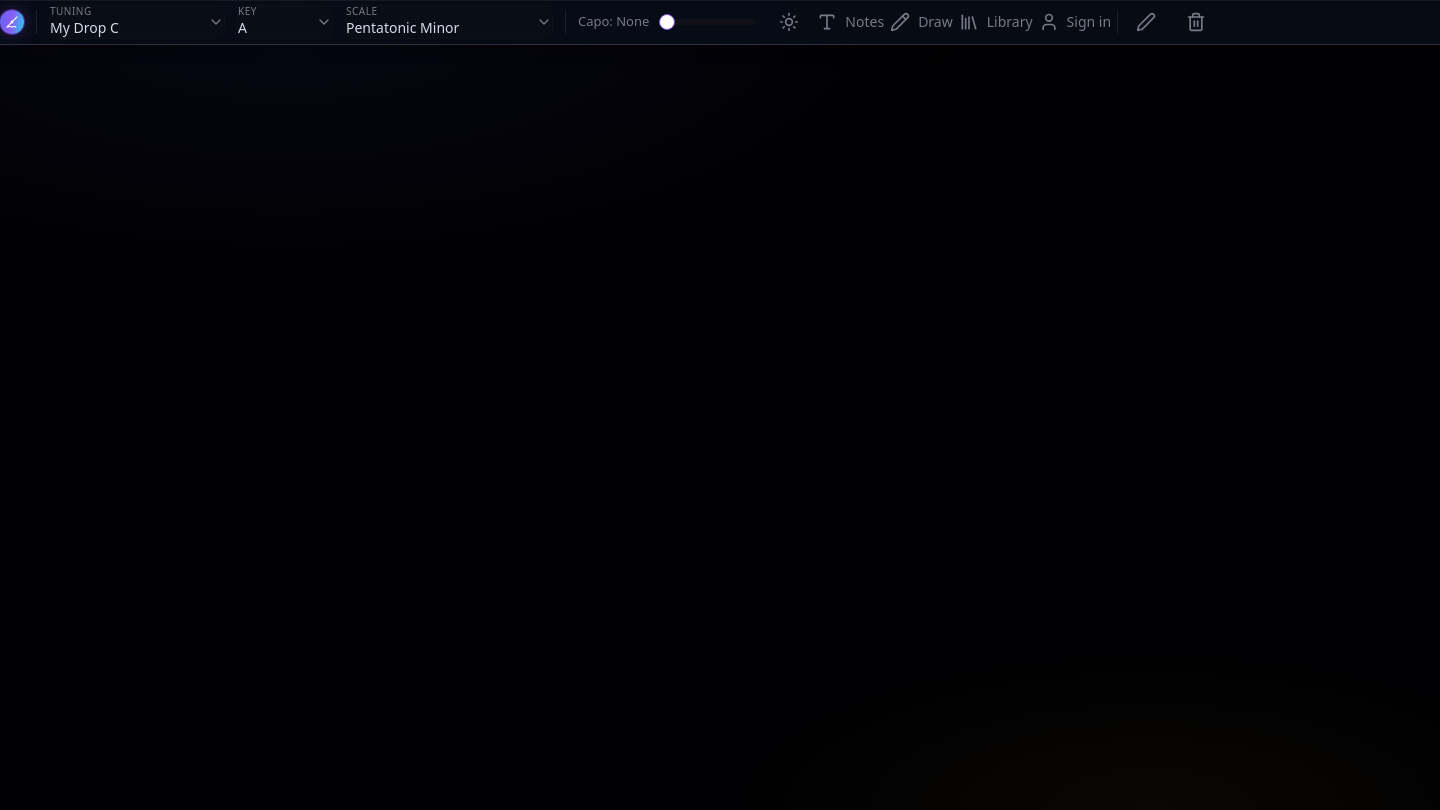
it: ControlBar — rename/delete actions (Task 9) › delete: confirmation sheet names the tuning and warns when it is in use
What coordinates should you click on to do the following:
click the button named "Delete tuning"
I would click on:
 (1196, 22)
Its box is [1174,0,1218,44].
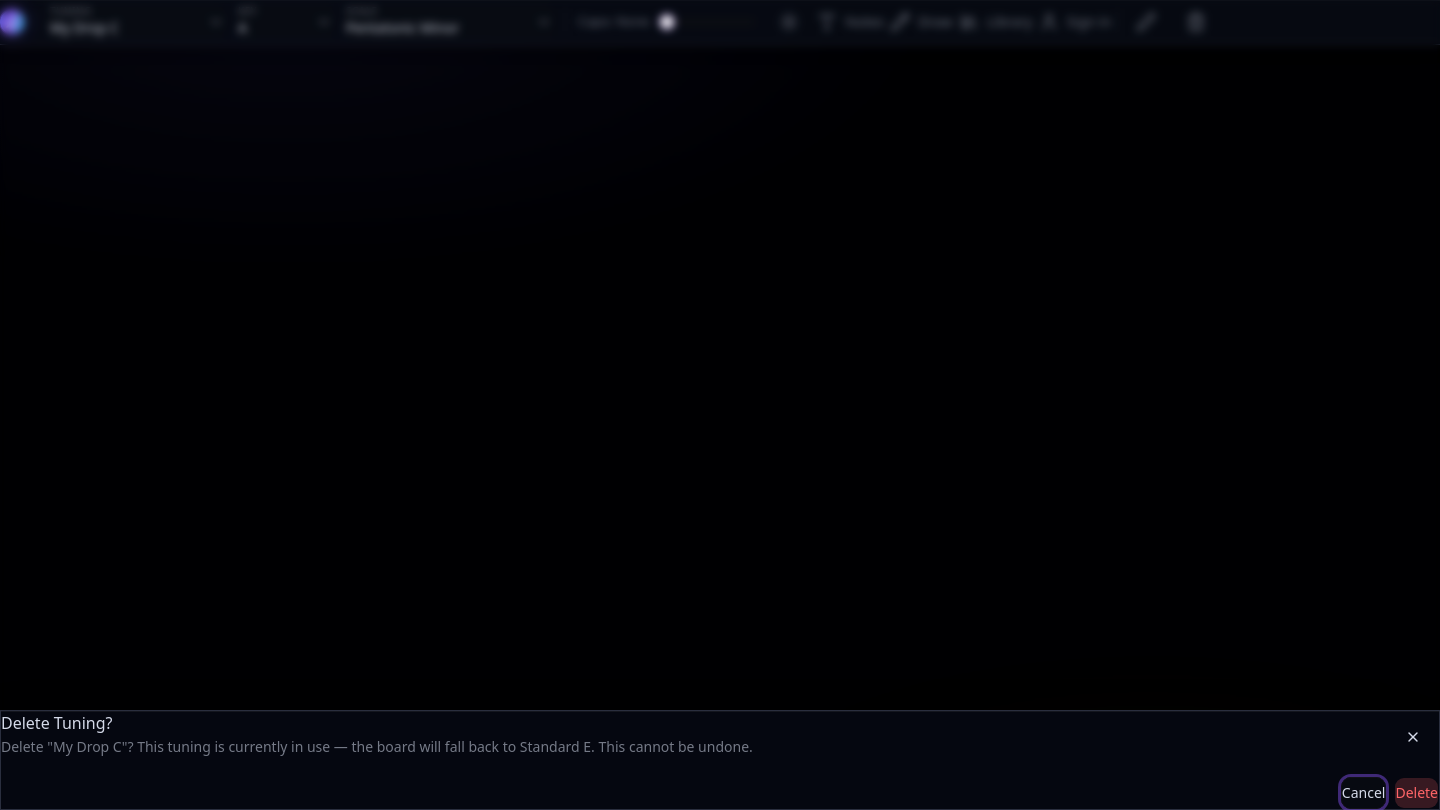
Expected: the text "Delete \"My Drop C\"?" is shown, [1,737,753,756]
Expected: the text "currently in use" is shown, [134,737,595,756]
Expected: the text "This cannot be undone." is shown, [598,737,753,756]
